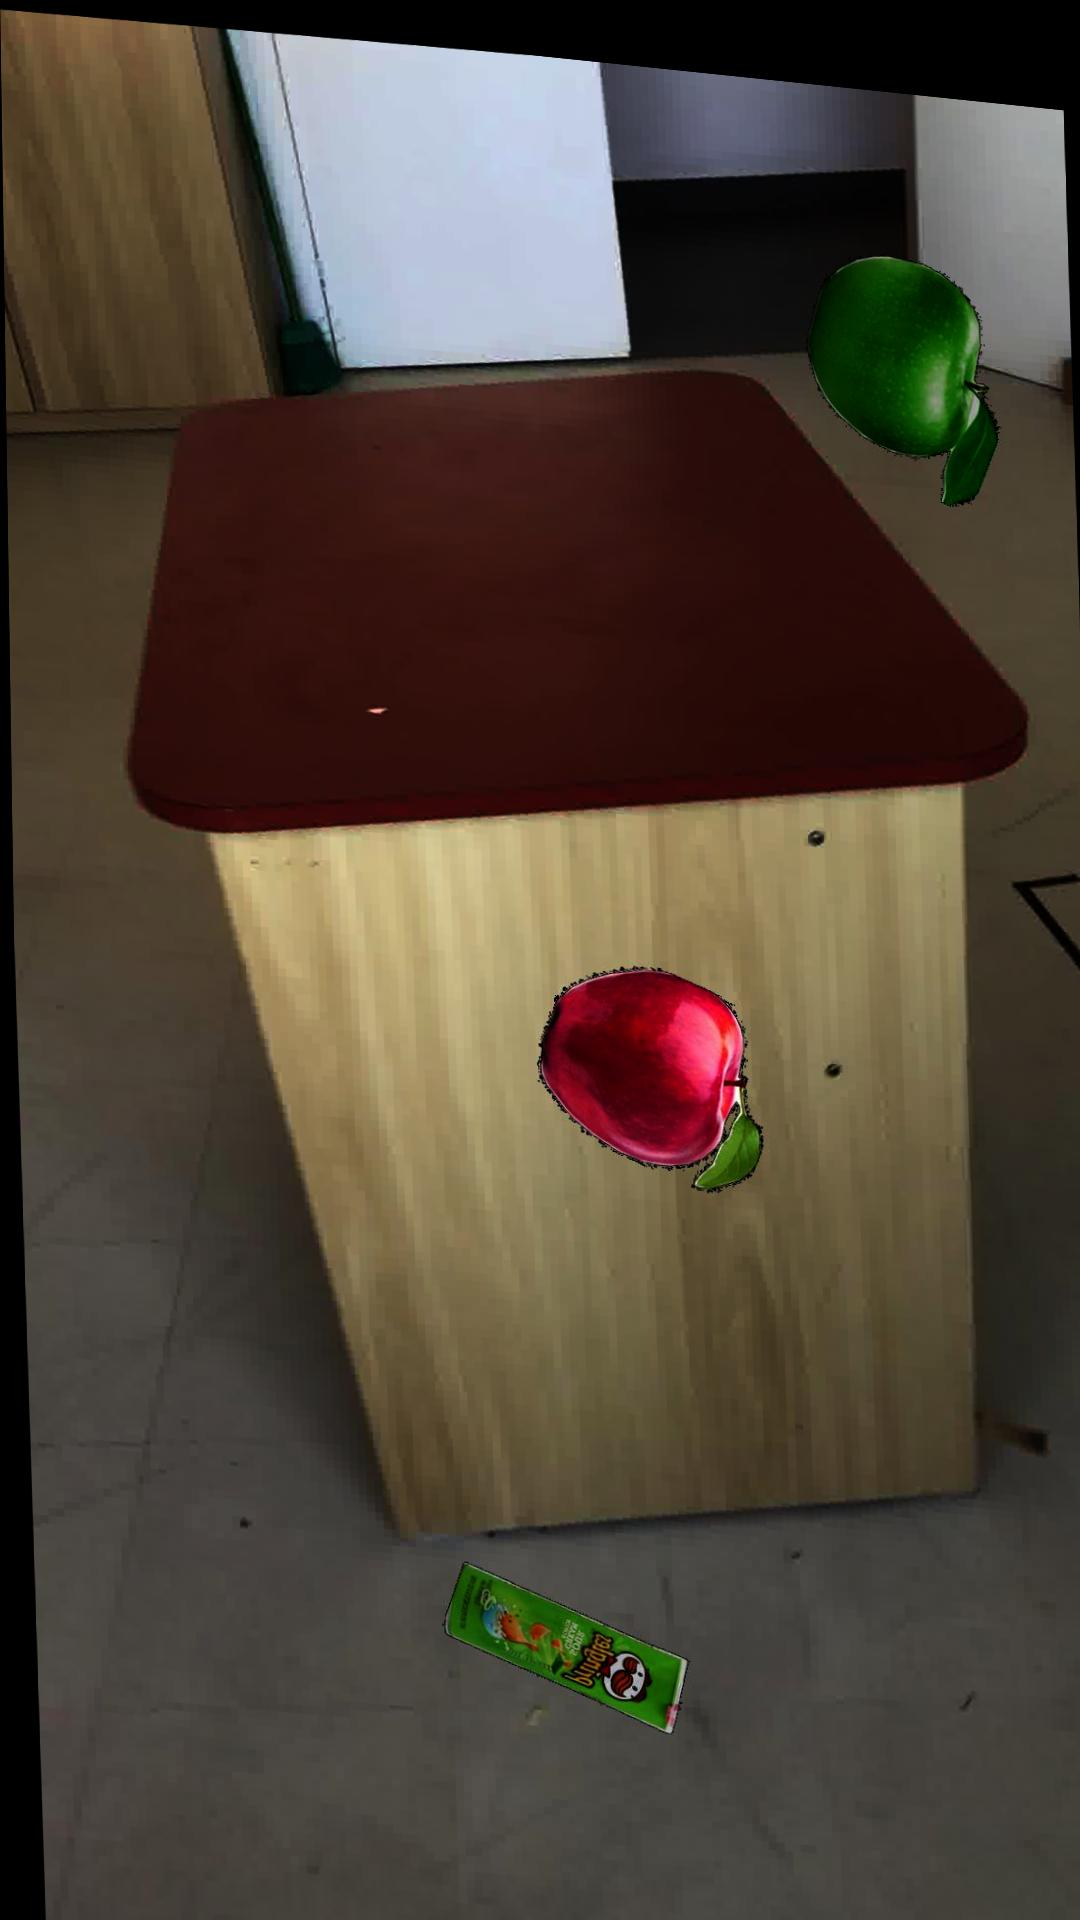apple: (533, 952, 758, 1176)
green apple: (803, 235, 996, 484)
pringles: (438, 1551, 682, 1718)
